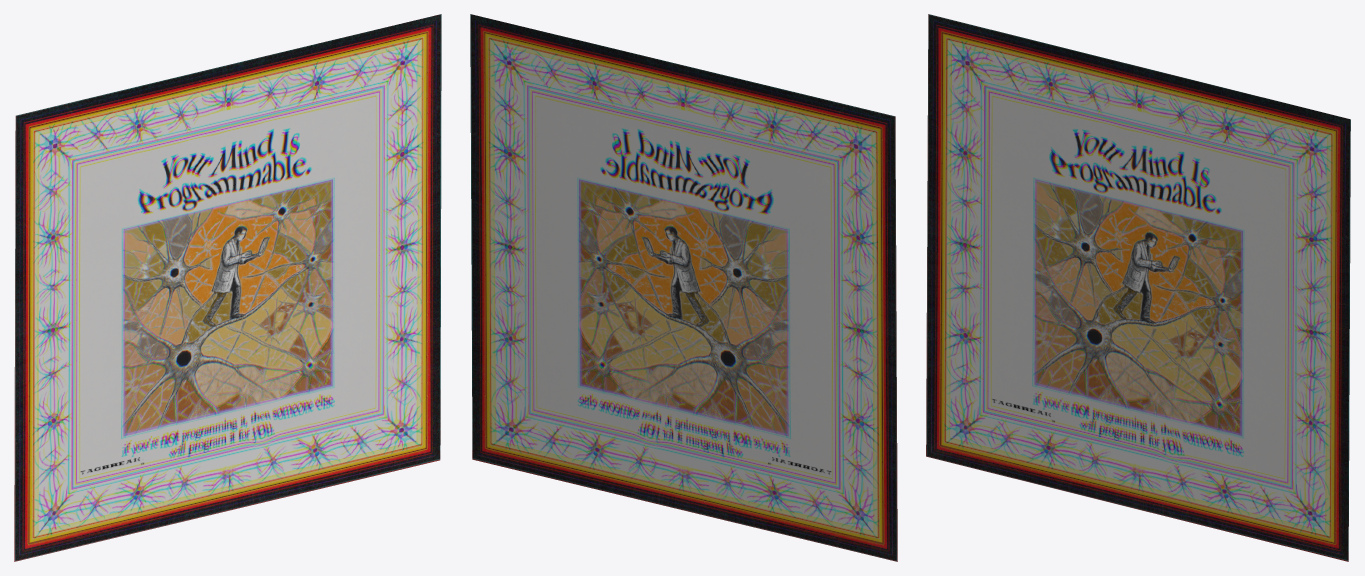
File: check2.glb
3 renders of one model, left to right at view 1: azimuth 30°, elevation 25°; view 2: azimuth 150°, elevation 25°; view 3: azimuth 330°, elevation 25°, orthographic.
Parts seen in each view (by area): view 1: Plane; view 2: Plane; view 3: Plane.
Part boxes in pixels (x1,y1,x2,y2): Plane: [14, 14, 441, 561]; Plane: [470, 14, 897, 561]; Plane: [926, 14, 1350, 561].
Size of the model in its own units: 2.01 by 2.01 by 0.00783.
Materials: 1 (1 with a texture image).
